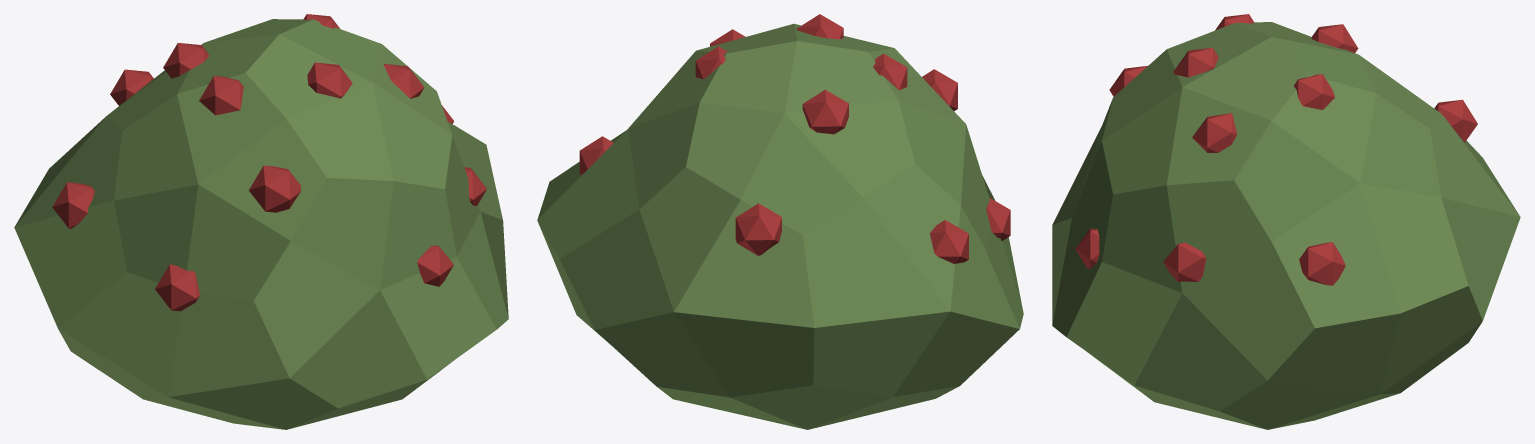
Rendered from BerryBush.fbx.
The picture shows the model from 3 angles, left to right: view 1: azimuth 30°, elevation 25°; view 2: azimuth 150°, elevation 25°; view 3: azimuth 270°, elevation 25°; orthographic projection.
Parts seen in each view (by area): view 1: pPlatonic1, pPlatonic15; view 2: pPlatonic1, pPlatonic15; view 3: pPlatonic1, pPlatonic15.
Boxes of the visible parts, <box> form: pPlatonic1: <box>14,19,508,429</box>; pPlatonic15: <box>52,14,486,311</box>; pPlatonic1: <box>537,23,1023,429</box>; pPlatonic15: <box>579,14,1010,263</box>; pPlatonic1: <box>1052,22,1520,429</box>; pPlatonic15: <box>1075,14,1477,285</box>.
Bounding box in the file's own units: 2.6 × 2.02 × 2.35.
